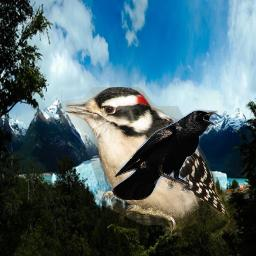Crow: (113, 109, 218, 200)
Woodpecker: (61, 87, 230, 236)
